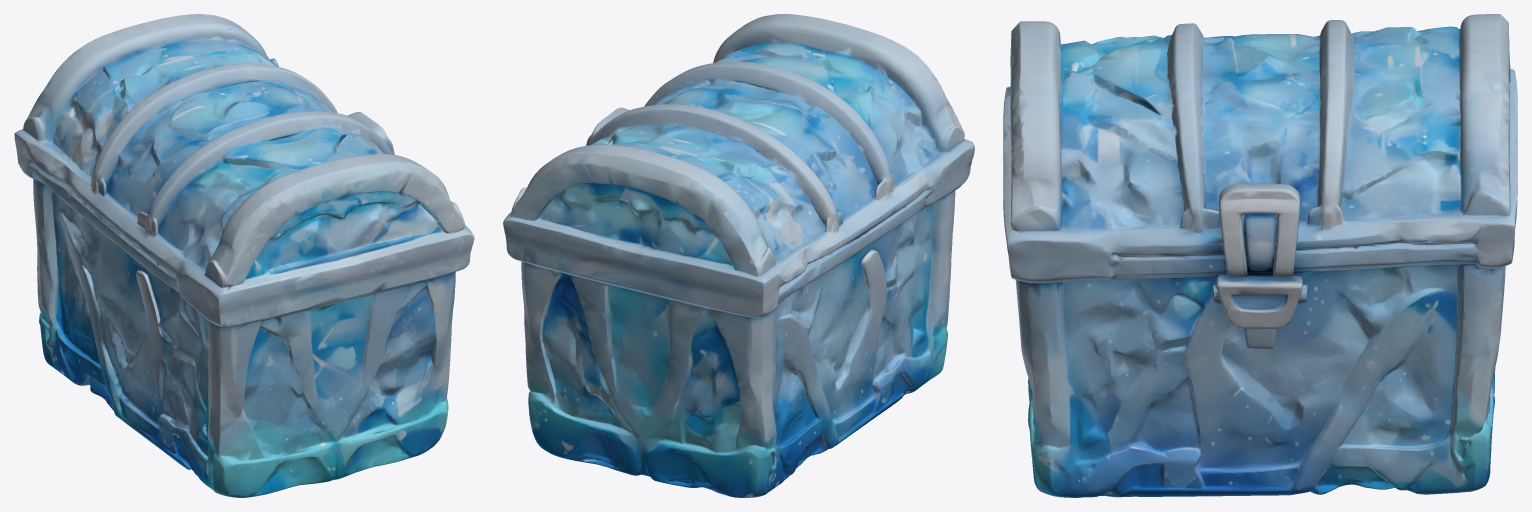
File: prop-chest-ice.glb
3 views of the same model, side by side, from view 1: azimuth 30°, elevation 25°; view 2: azimuth 150°, elevation 25°; view 3: azimuth 270°, elevation 25° (orthographic). The views are drawn at different scales.
Parts seen in each view (by area): view 1: tripo_node_c8c260ff-d4b1-4531-8083-d64facc19e61; view 2: tripo_node_c8c260ff-d4b1-4531-8083-d64facc19e61; view 3: tripo_node_c8c260ff-d4b1-4531-8083-d64facc19e61.
Part boxes in pixels (<box>): tripo_node_c8c260ff-d4b1-4531-8083-d64facc19e61: <box>14,14,474,497</box>; tripo_node_c8c260ff-d4b1-4531-8083-d64facc19e61: <box>503,14,974,497</box>; tripo_node_c8c260ff-d4b1-4531-8083-d64facc19e61: <box>1003,14,1517,497</box>.
Bounding box in the file's own units: 1.03 × 1.2 × 1.38.
Materials: 1 (1 with a texture image).
